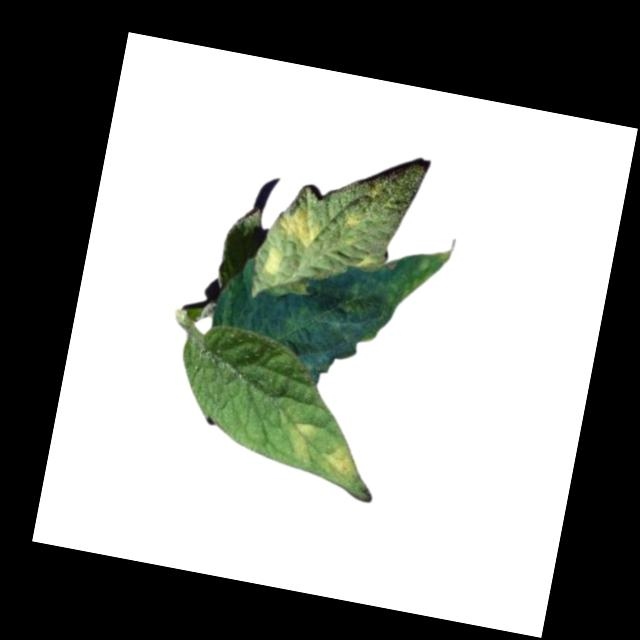Leaf_Mold: (378, 238, 449, 315), (270, 198, 325, 250), (314, 436, 365, 488), (281, 415, 319, 464), (258, 245, 286, 282), (337, 205, 366, 232)
